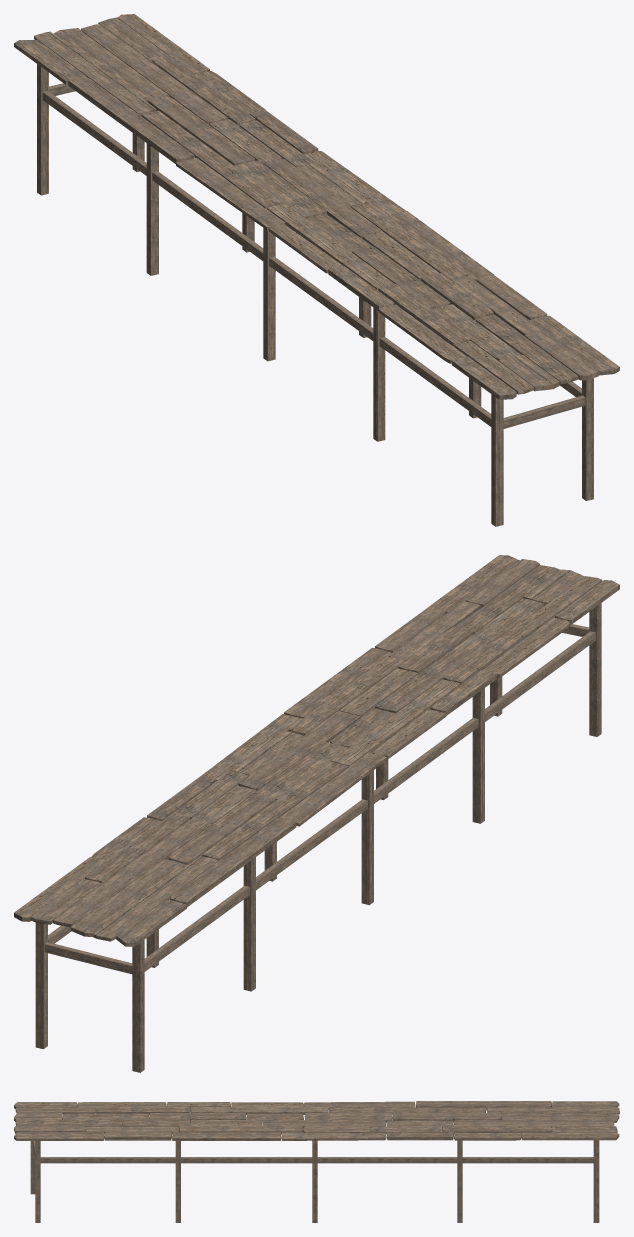
The model's file is Prop_Mq01.glb.
The picture shows the model from 3 angles, top to bottom: view 1: azimuth 30°, elevation 25°; view 2: azimuth 150°, elevation 25°; view 3: azimuth 270°, elevation 25°; orthographic projection. The views are drawn at different scales.
Parts seen in each view (by area): view 1: xiutz_mq_01; view 2: xiutz_mq_01; view 3: xiutz_mq_01.
Boxes of the visible parts, x1,y1,x2,y2 form: xiutz_mq_01: [14, 14, 619, 526]; xiutz_mq_01: [14, 555, 619, 1072]; xiutz_mq_01: [14, 1101, 619, 1222].
Size of the model in its own units: 3.96 by 4.37 by 27.1.
Materials: 1 (1 with a texture image).
